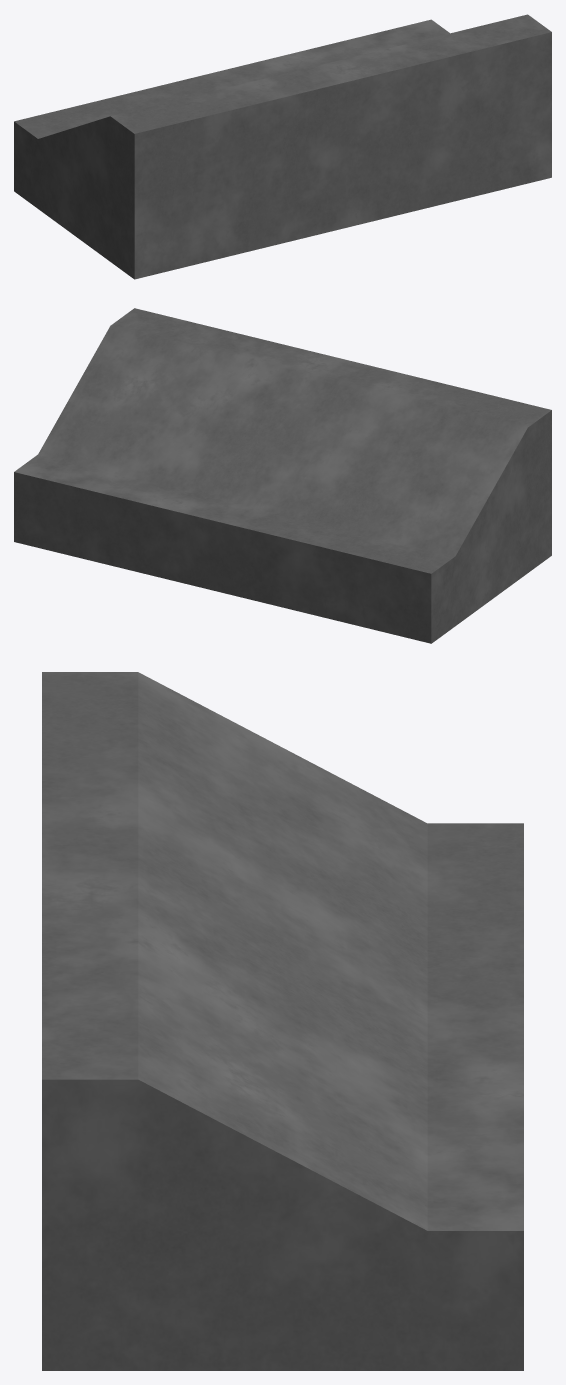
Rendered from ConsoleModuleDesk.fbx.
3 views of the same model, one above another, from view 1: azimuth 30°, elevation 25°; view 2: azimuth 150°, elevation 25°; view 3: azimuth 270°, elevation 25° (orthographic). The views are drawn at different scales.
Parts seen in each view (by area): view 1: Console Module Desk; view 2: Console Module Desk; view 3: Console Module Desk.
Part boxes in pixels (box(x1,y1,x2,y2)): Console Module Desk: box(14, 14, 551, 279); Console Module Desk: box(14, 308, 551, 643); Console Module Desk: box(42, 672, 523, 1370).
Bounding box in the file's own units: 2.4 × 1.2 × 0.8.
1 material, 1 textured.
